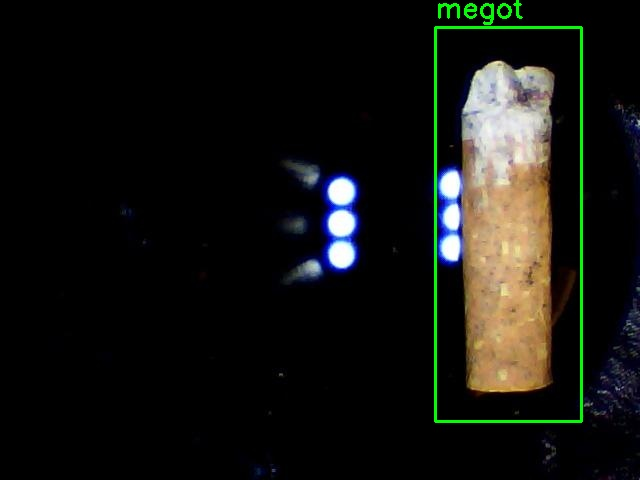megot: (435, 27, 581, 421)
